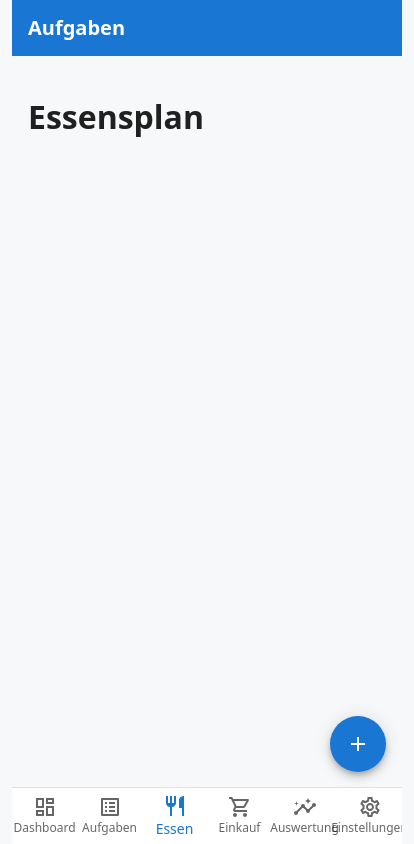
Test case: mobile navigation › creates a dish instead of an Aufgabe on /essen (MAINT-008)
Click the button named "Gericht anlegen" at (358, 744), box 330,716 -> 386,772
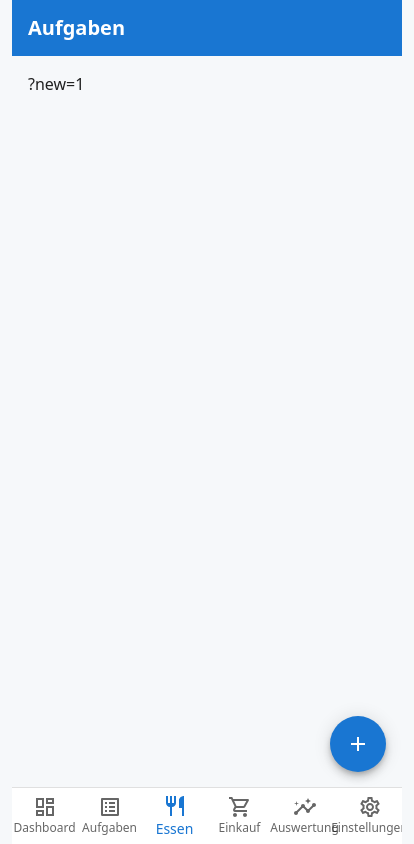
Result: the text with test id "search" reads "?new=1" at 28,73 -> 84,95
